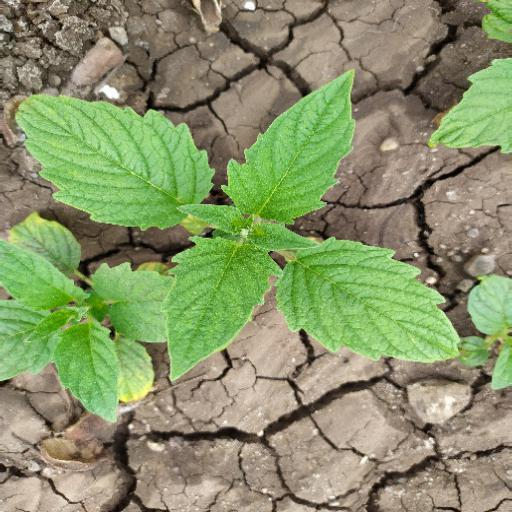crop: (22, 60, 475, 382), (9, 199, 222, 484)
